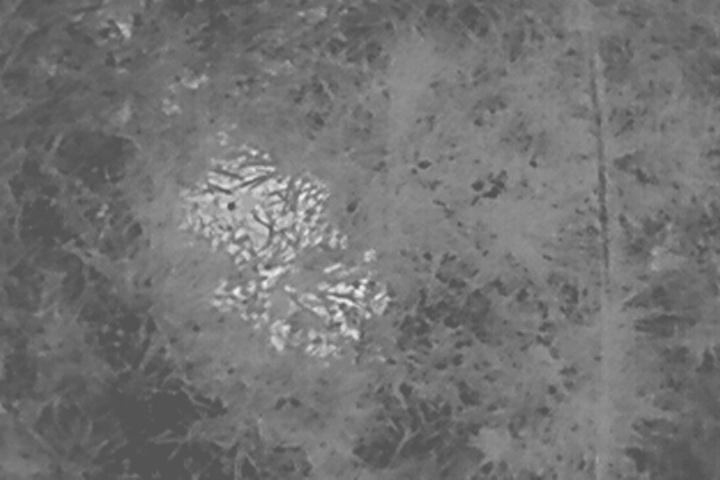landmine: (186, 151, 385, 350)
